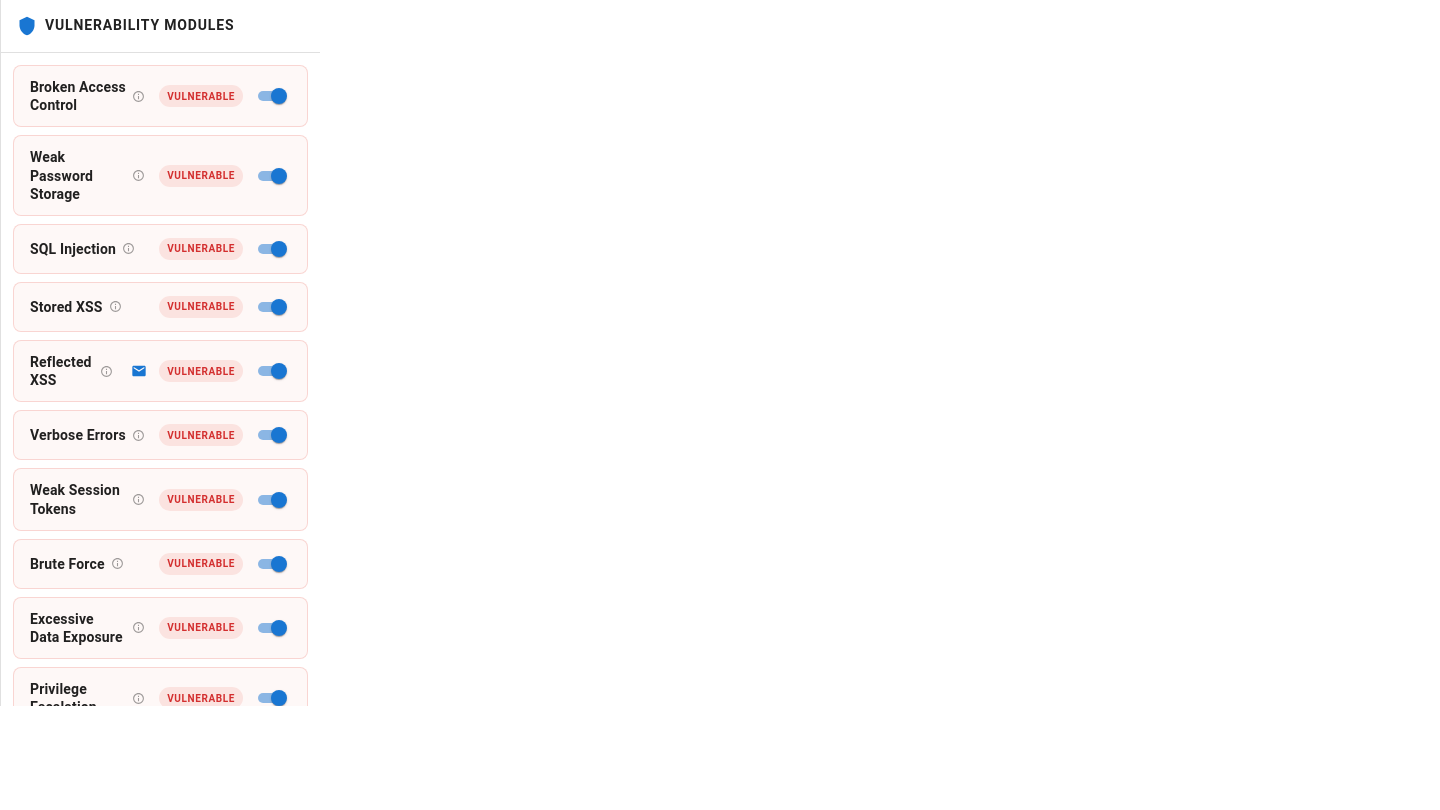
Test: VulnerabilityPanel session re-login dialog › blocks anonymous weak_session_tokens toggles with an account-bound session message
This screenshot has width=1440, height=810.
What coordinates should you click on to do the following:
click the switch named "Toggle Weak Session Tokens"
I would click on:
 (279, 500)
Its box is [271, 492, 287, 508].
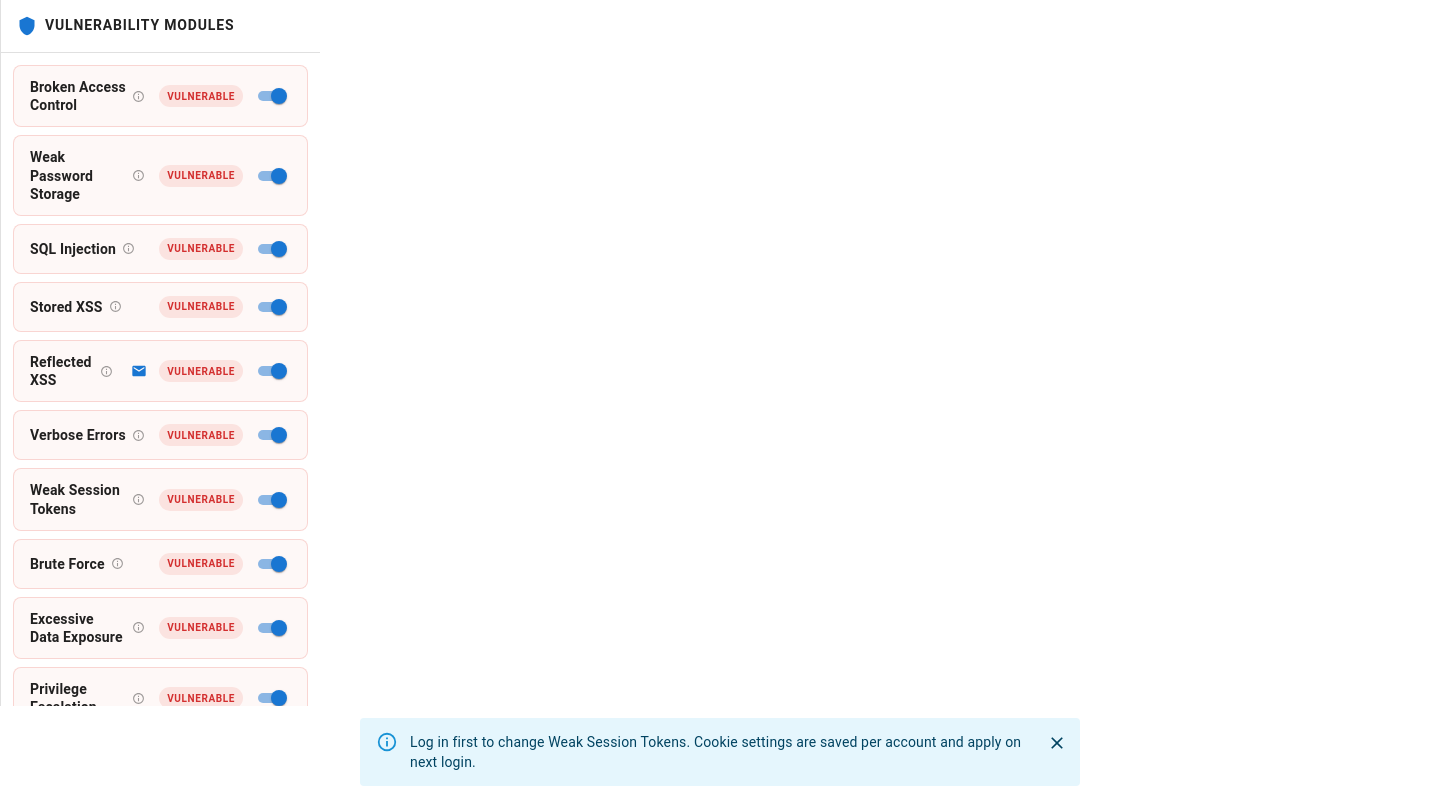
Check: the message shows "Log in first to change Weak Session Tokens", box [410, 734, 1021, 770]
